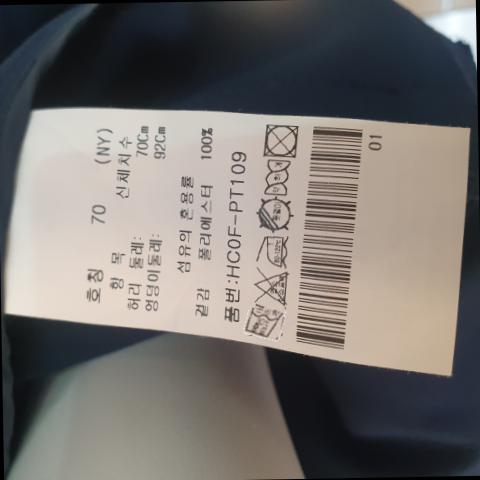DN_bleach: (252, 265, 293, 305)
DN_tumble_dry: (262, 120, 304, 158)
hand_wash: (247, 304, 288, 339)
iron_low: (254, 230, 293, 269)
line_dry_in_shade: (255, 197, 296, 233)
wring: (264, 158, 292, 197)
